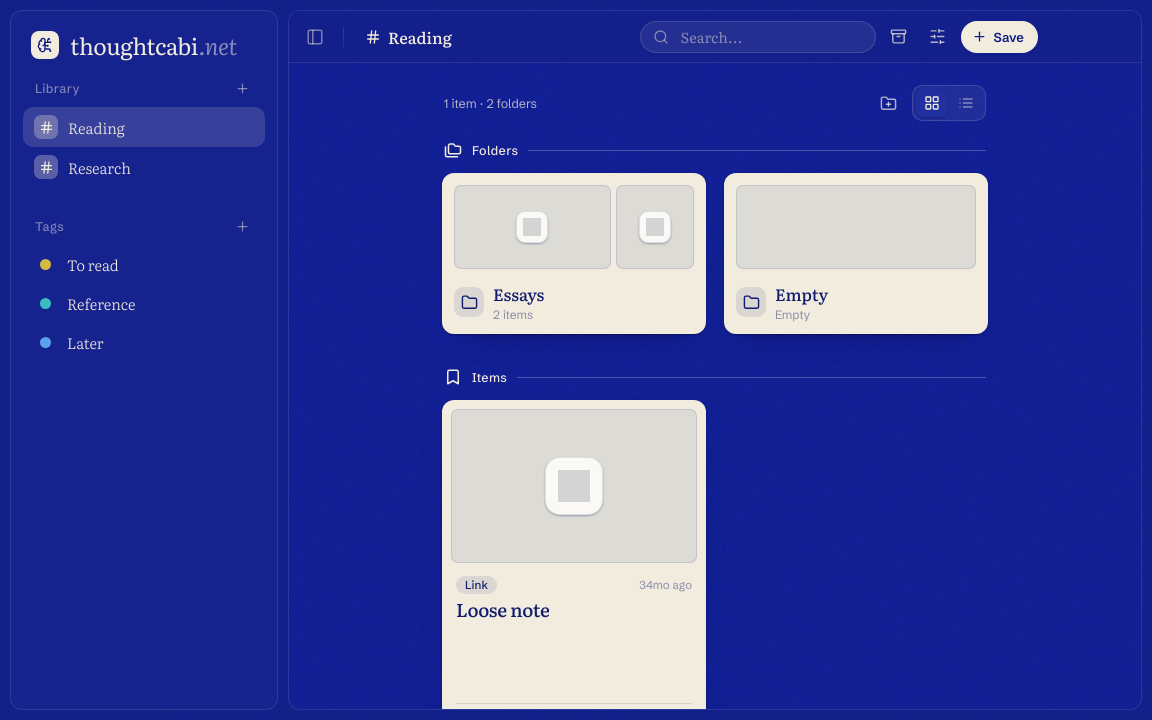
Test case: App › quotes a search that found nothing, and drops it again
Type "qqqqzzz" into the field named "Search your cabinet".
click(736, 36); type("qqqqzzz")  # box left=678, top=25, right=794, bottom=48
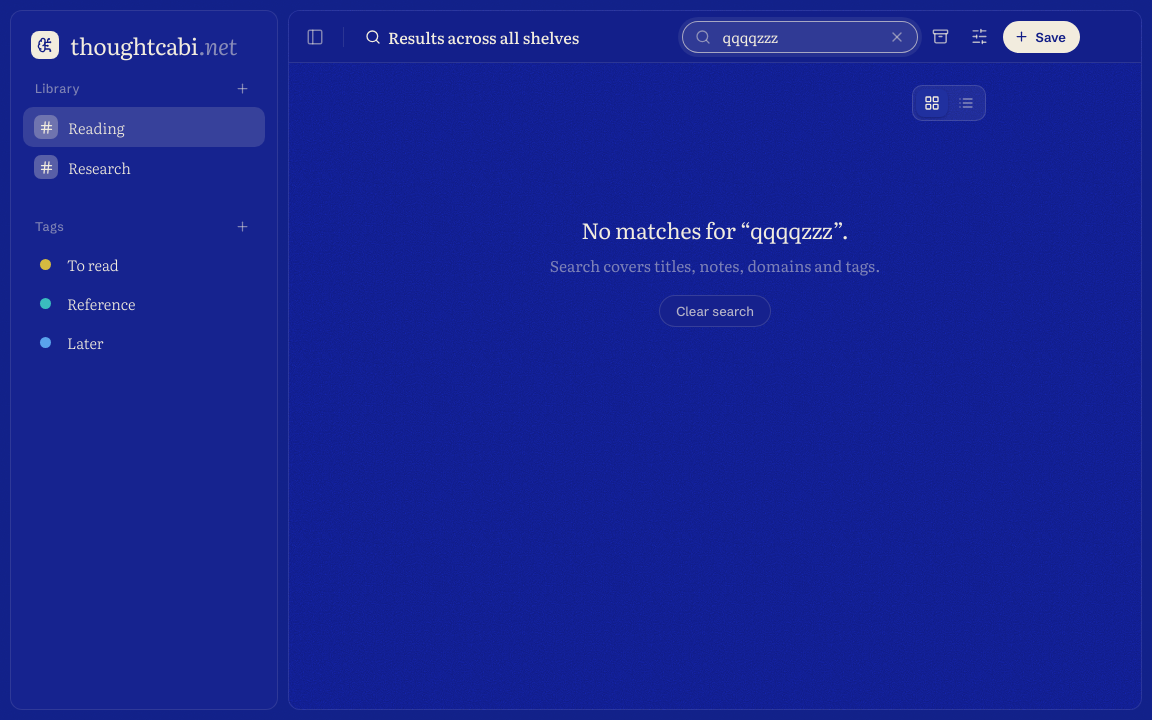
Result: the heading "No matches for “qqqqzzz”." is shown at left=581, top=213, right=849, bottom=246
Click the button "Clear search".
click(715, 311)  # box left=659, top=295, right=771, bottom=327
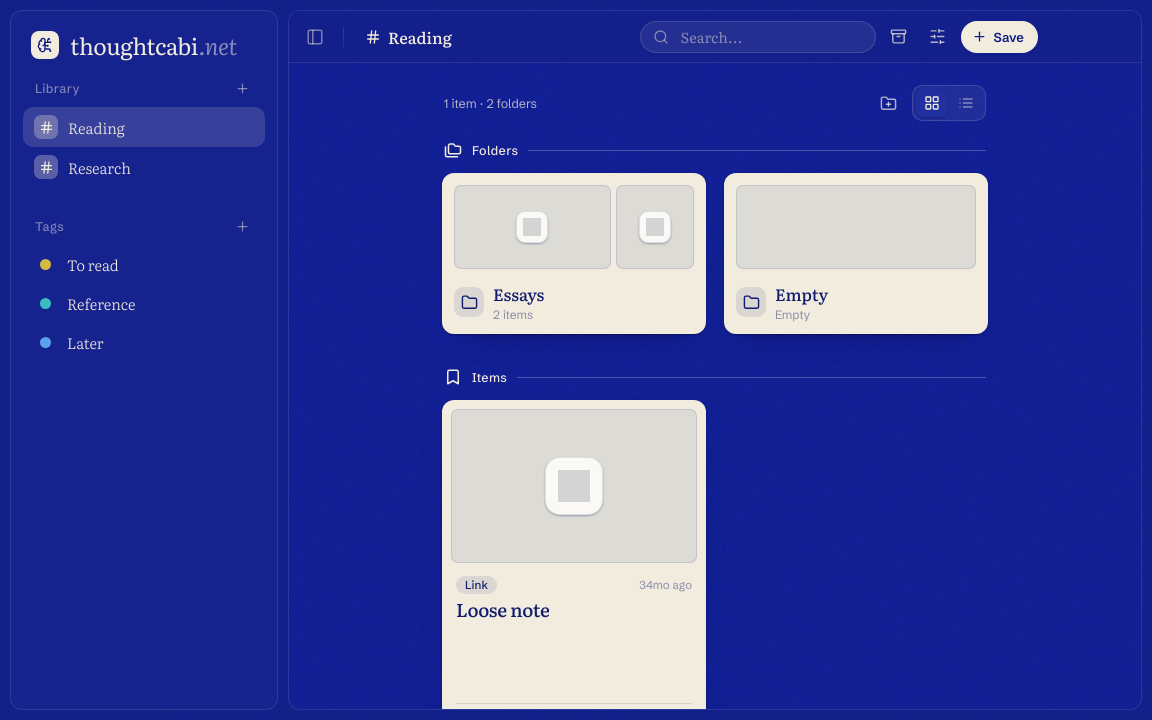
Result: the text "Essays" is shown at left=493, top=282, right=544, bottom=306
